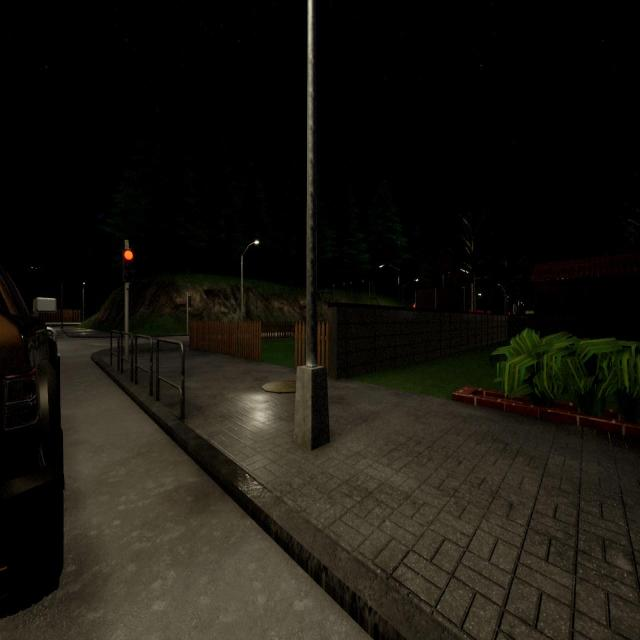Vehicle: (0, 266, 64, 614)
traffic_light: (122, 249, 133, 282), (188, 296, 191, 308), (412, 302, 417, 308)
